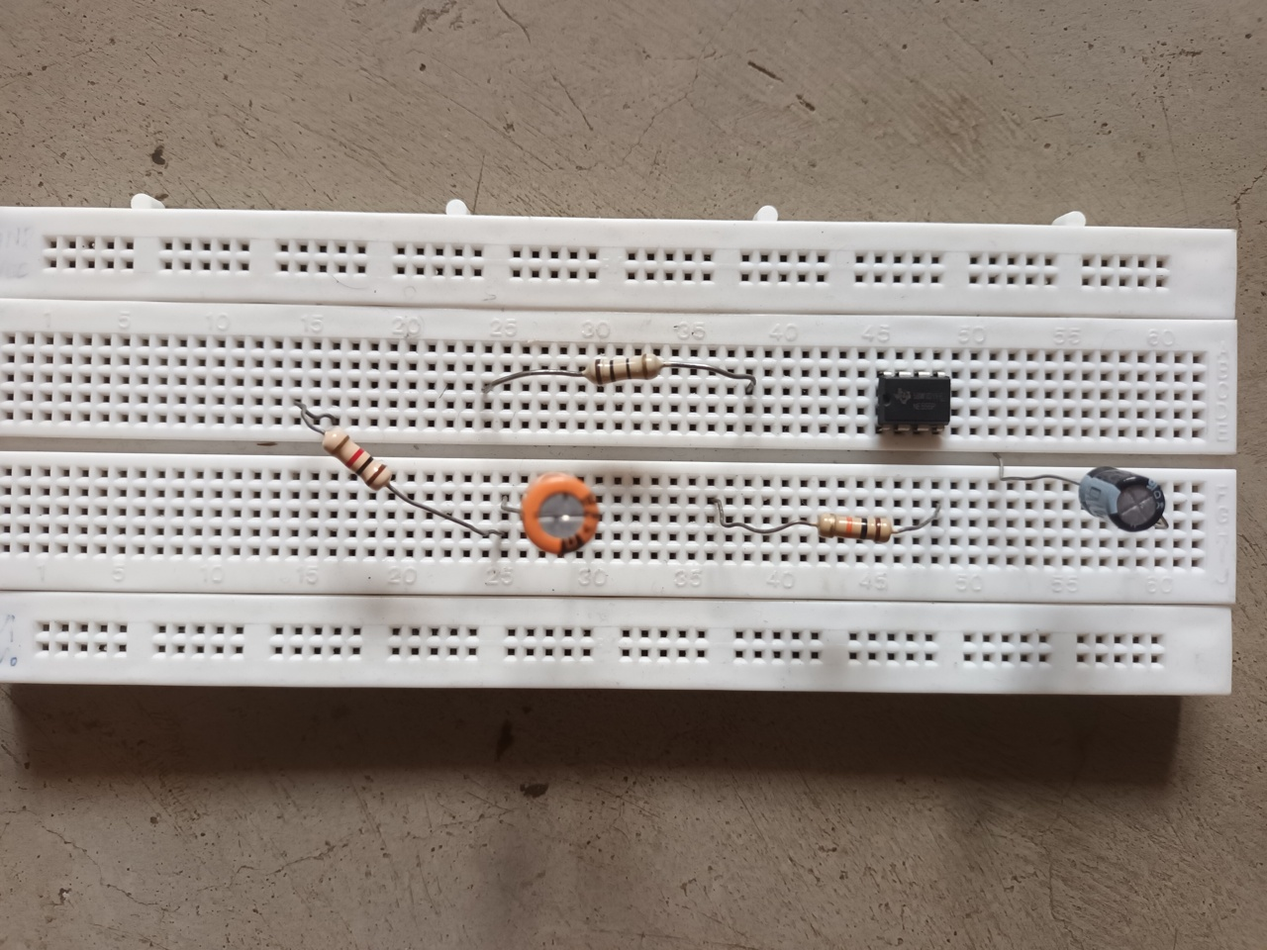capacitor: (520, 471, 602, 558), (1078, 465, 1166, 534)
resistor: (320, 424, 392, 491), (584, 352, 665, 386), (816, 512, 893, 544)
